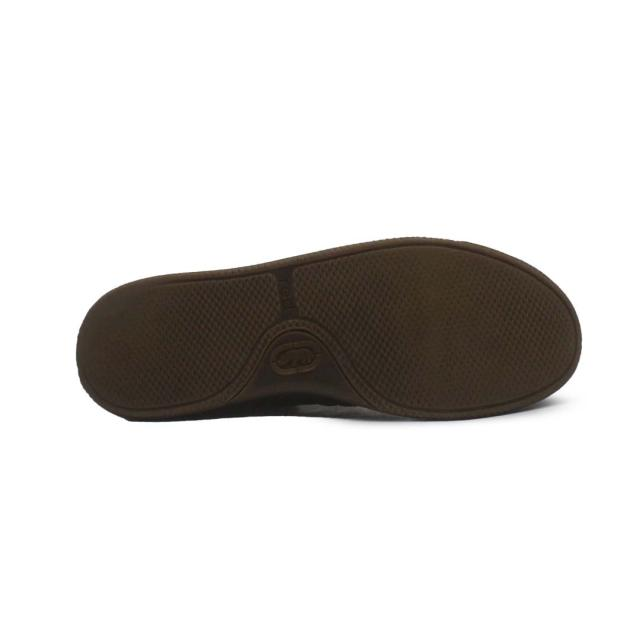outersole: (72, 239, 580, 424)
